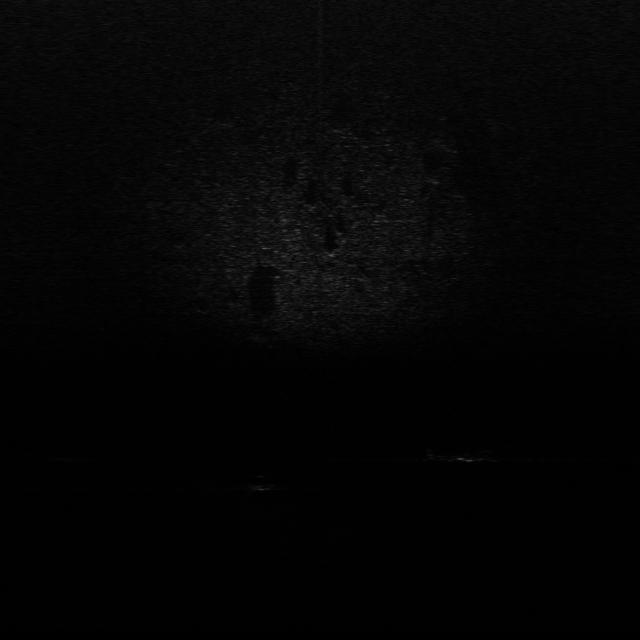ball: (247, 468, 279, 494)
human body: (424, 445, 504, 468)
